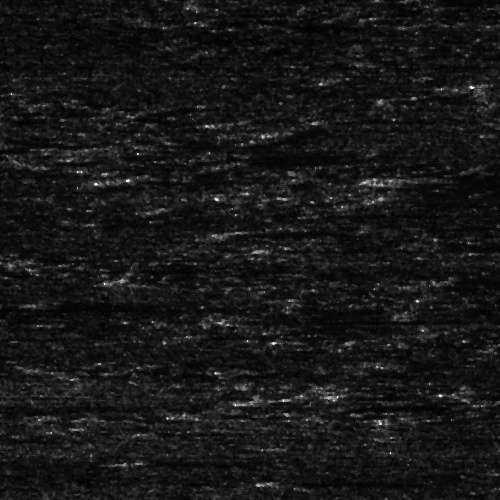object: (190, 476, 315, 485), (352, 174, 445, 185), (195, 314, 288, 323), (75, 175, 148, 186), (297, 116, 360, 123), (4, 300, 45, 307), (102, 458, 143, 463)
shadow: (112, 175, 247, 186), (253, 476, 393, 485), (399, 174, 500, 185), (24, 300, 162, 307), (123, 458, 260, 463), (242, 314, 314, 323), (329, 116, 396, 123)
